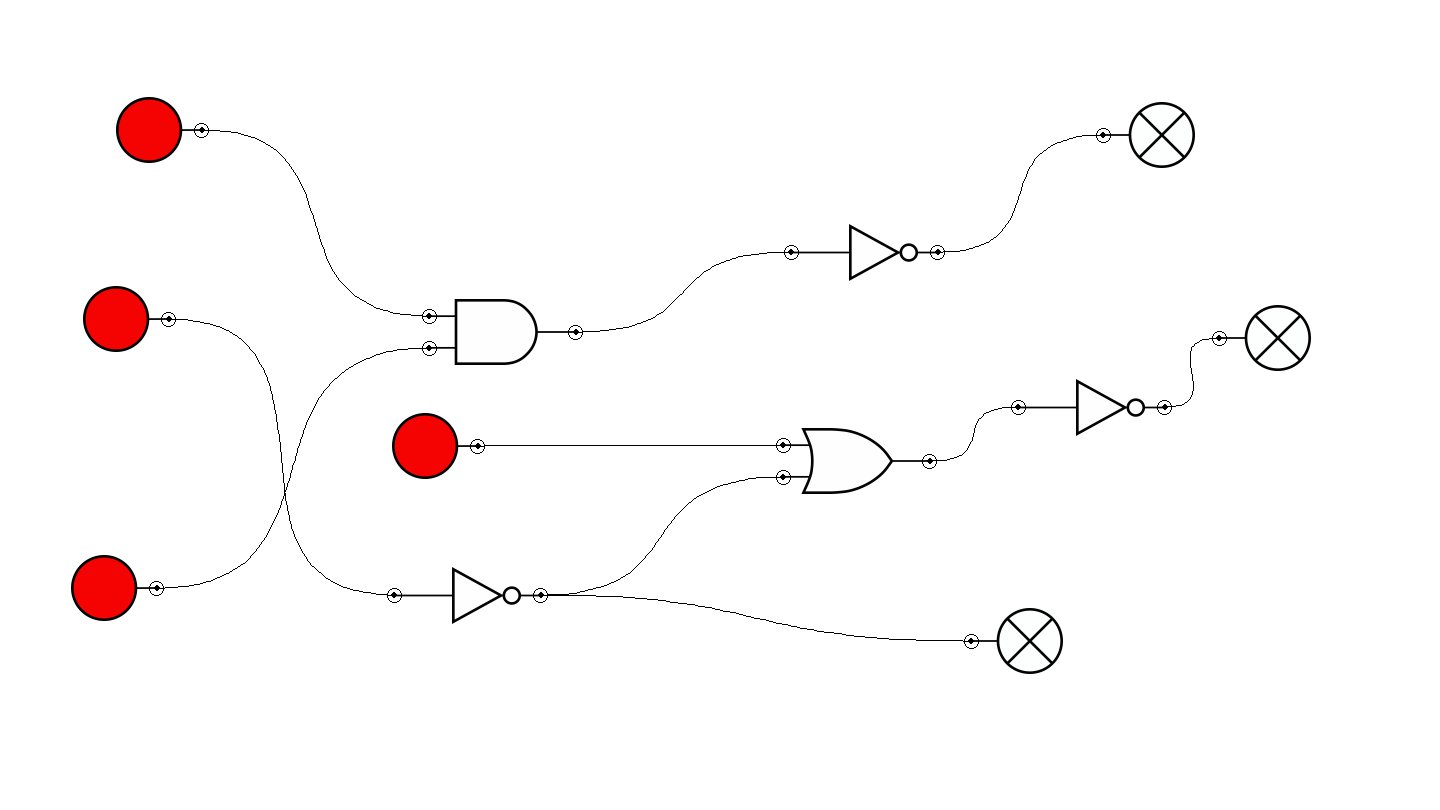and: (422, 299, 583, 365)
bulb: (1212, 305, 1311, 371), (964, 608, 1063, 674), (1096, 102, 1195, 168)
not: (784, 224, 945, 281), (1011, 379, 1172, 436), (387, 567, 548, 624)
or: (776, 428, 937, 494)
switch_False: (116, 97, 209, 163), (83, 286, 176, 352), (71, 555, 164, 621), (392, 413, 485, 479)
